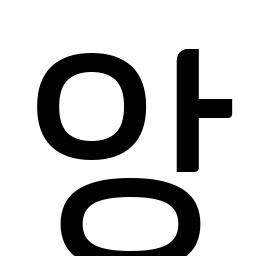Gaji: (163, 86, 216, 133)
